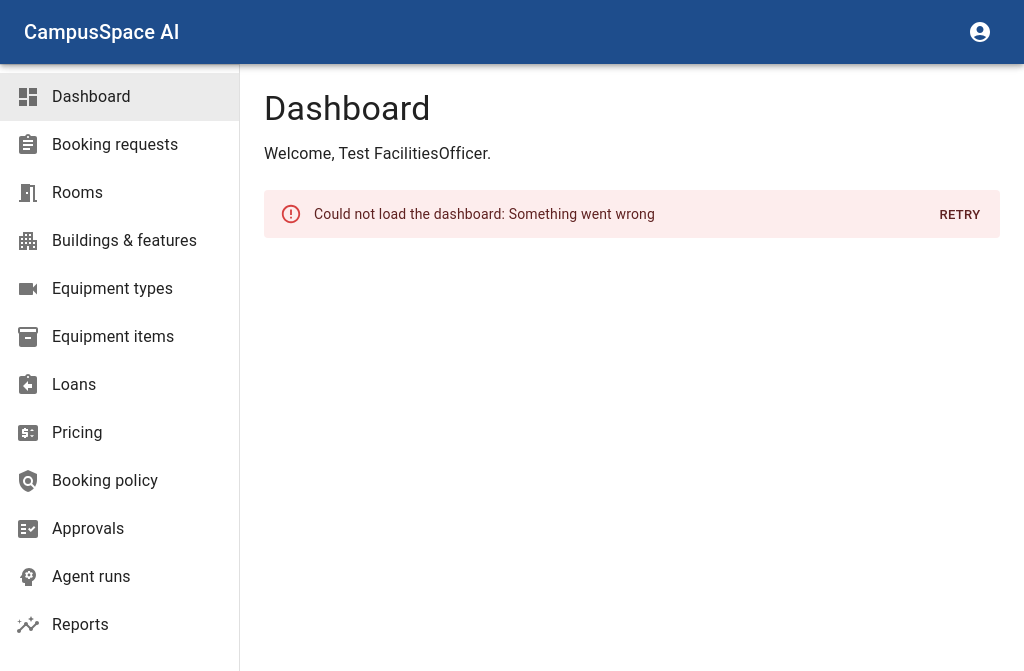
Test: Officer dashboard › shows an error with Retry, which loads the dashboard again
Expected: the text "Could not load the dashboard: Something went wrong" is shown, x1=314 y1=206 x2=655 y2=222
Click the button "Retry": (960, 215) x1=928 y1=200 x2=992 y2=231
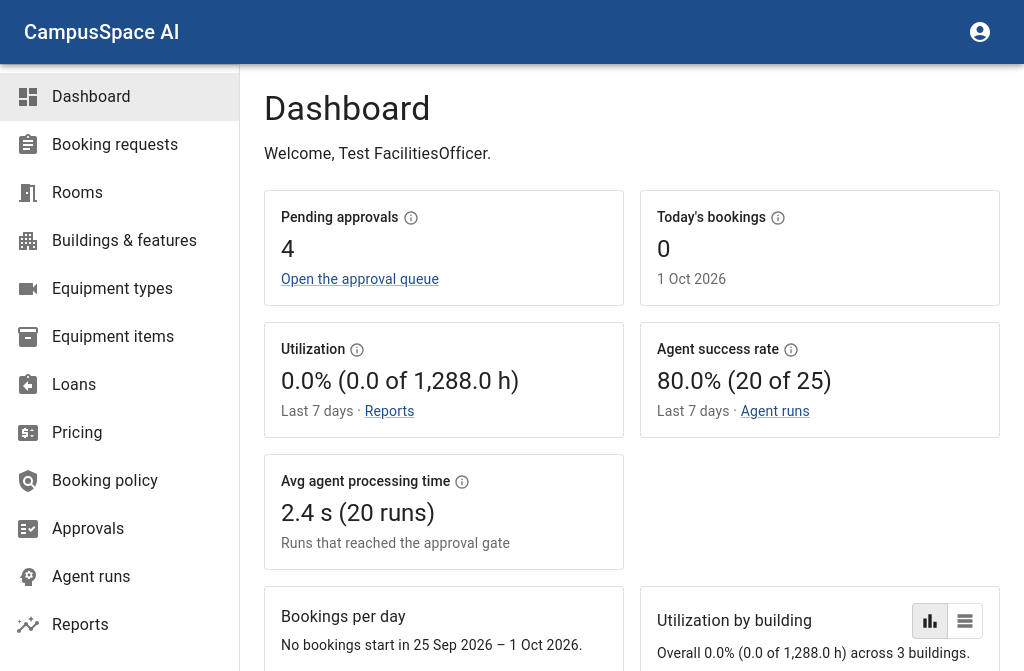
Expected: the text "4" is shown, x1=281 y1=235 x2=294 y2=263
